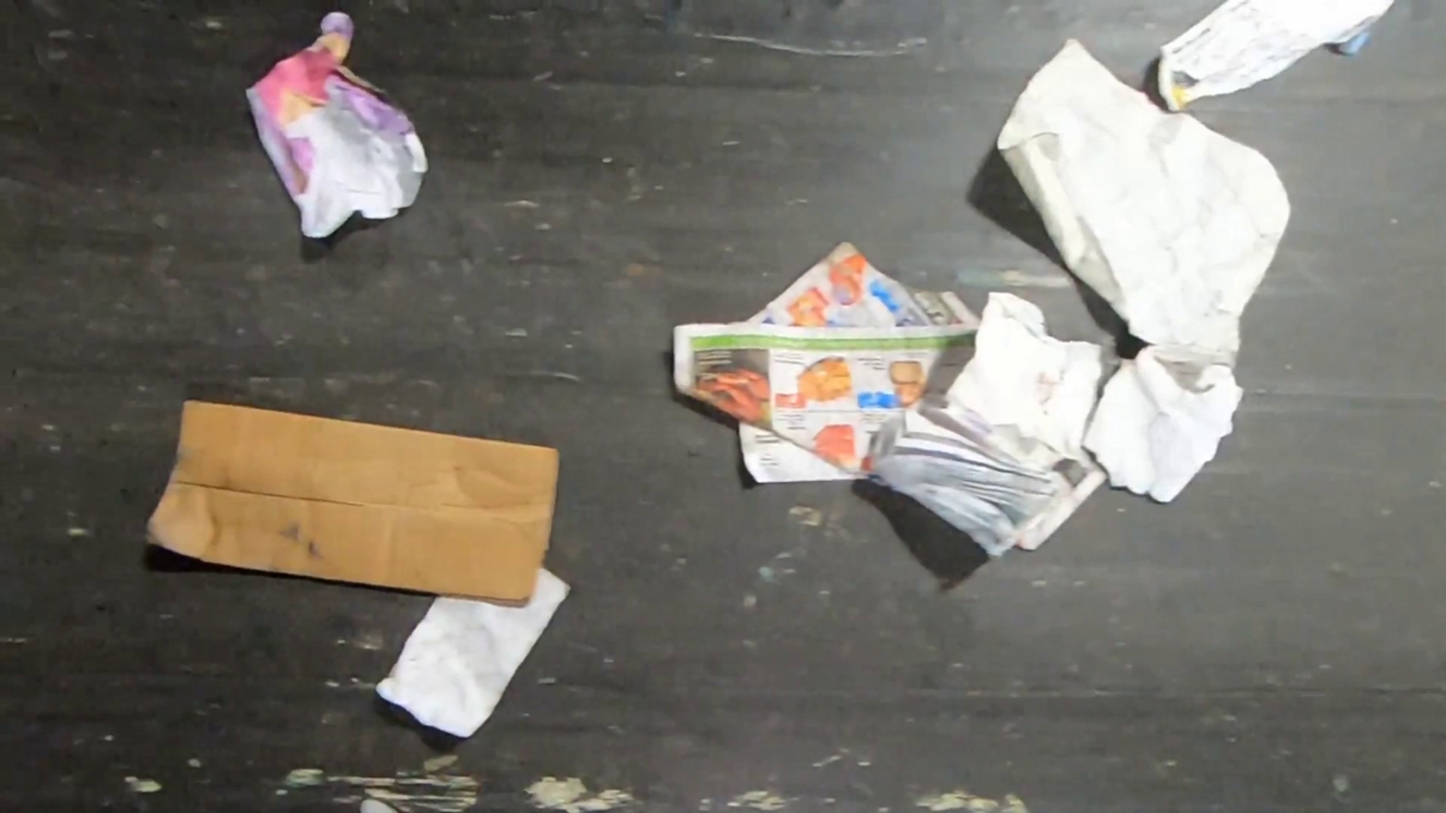cardboard: (144, 398, 563, 604)
